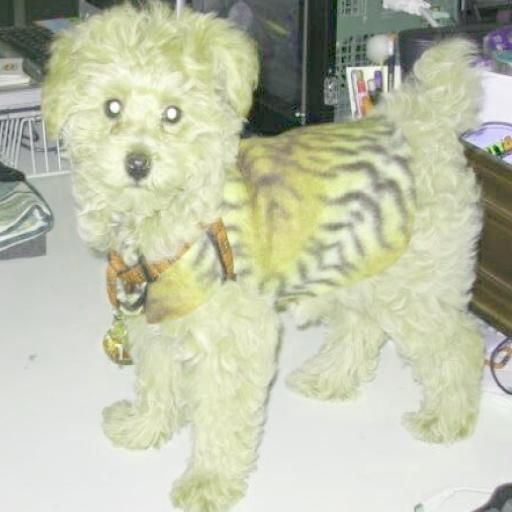dog_face: (46, 15, 254, 208)
